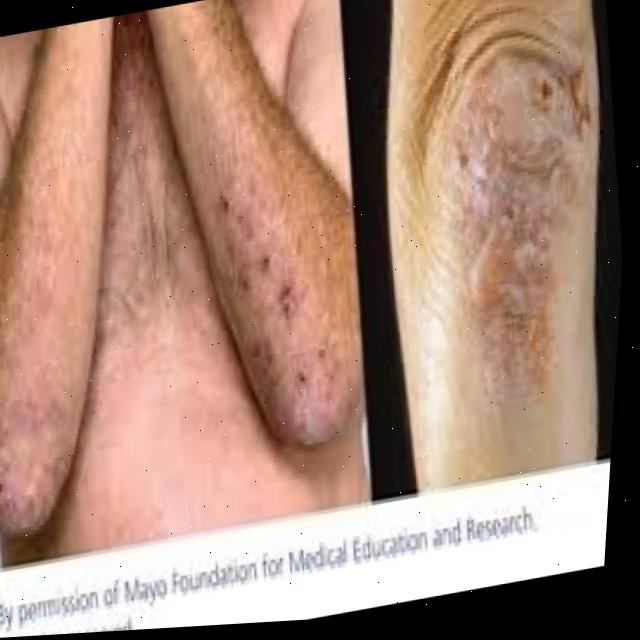Eczema: (157, 132, 359, 435), (421, 125, 560, 402), (0, 375, 98, 527)
